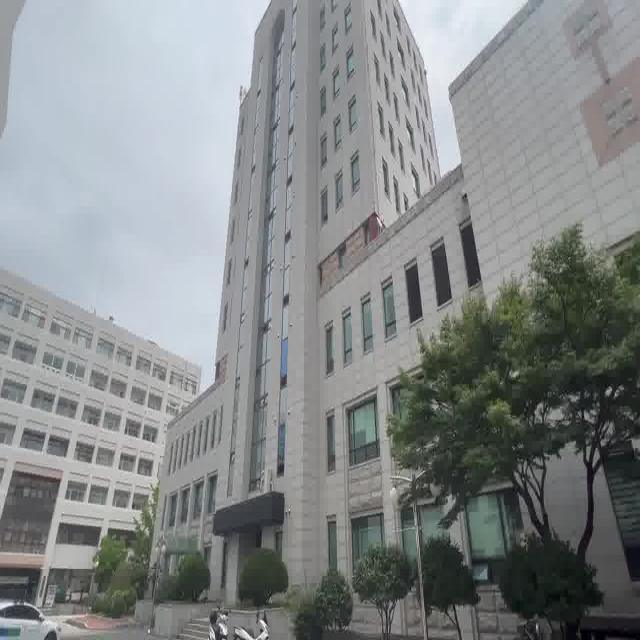building: (212, 11, 388, 527)
